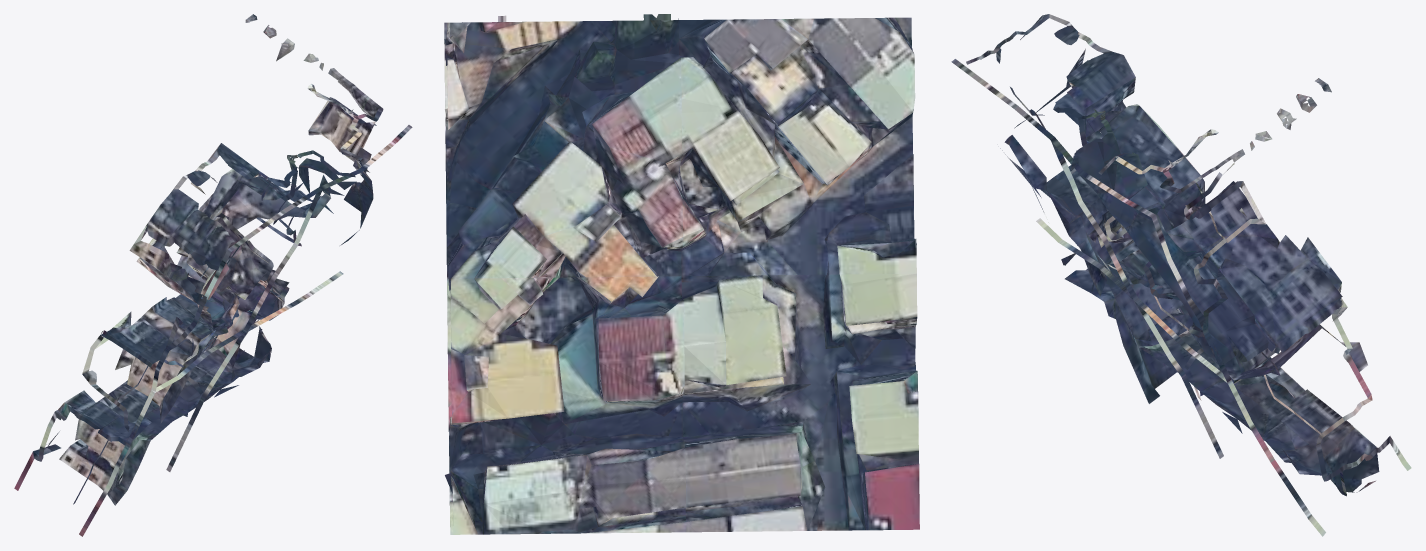
The picture shows the model from 3 angles, left to right: view 1: azimuth 30°, elevation 25°; view 2: azimuth 150°, elevation 25°; view 3: azimuth 270°, elevation 25°; orthographic projection. The views are drawn at different scales.
Bounding box in the file's own units: 85.54 × 84.81 × 78.48.
2 materials, 2 textured.
